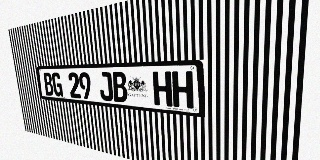2: (68, 72, 81, 98)
9: (78, 72, 92, 99)
B: (111, 72, 128, 103), (43, 73, 54, 96)
G: (51, 72, 63, 97)
H: (172, 71, 194, 109), (152, 71, 172, 107)
J: (98, 72, 114, 101)
